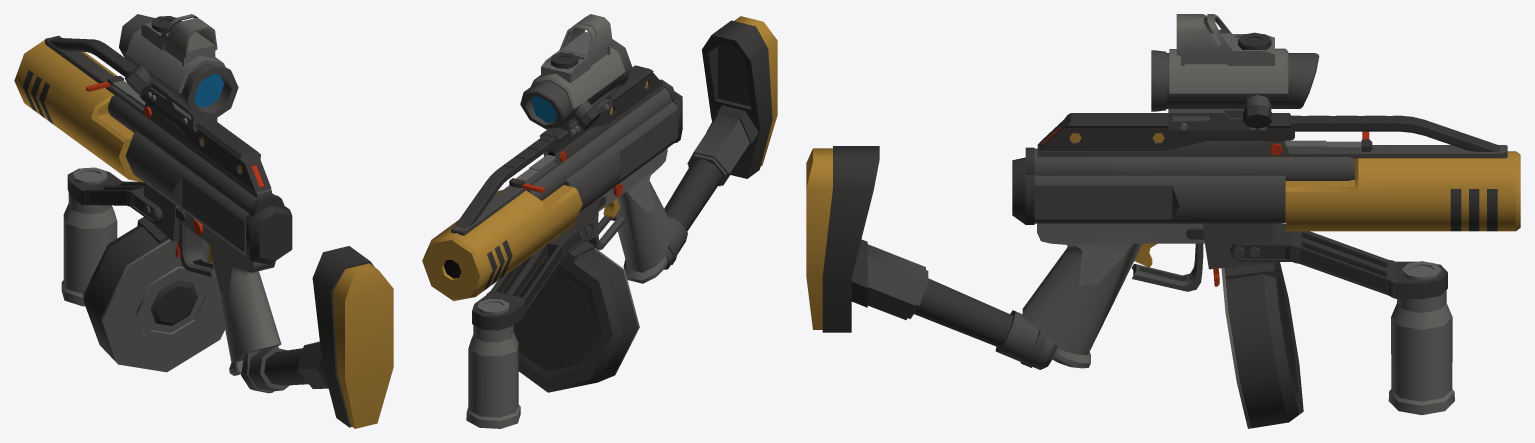
The model's file is smg.obj.
3 renders of one model, left to right at view 1: azimuth 30°, elevation 25°; view 2: azimuth 150°, elevation 25°; view 3: azimuth 270°, elevation 25°, orthographic. The views are drawn at different scales.
Visible parts, largest first — view 1: Handle1; view 2: Handle1; view 3: Handle1.
Part boxes in pixels (x1=…): Handle1: x1=14, y1=14, x2=393, y2=428; Handle1: x1=422, y1=14, x2=777, y2=428; Handle1: x1=806, y1=14, x2=1520, y2=428.
Size of the model in its own units: 0.79 by 1.93 by 3.06.
1 material, 1 textured.
